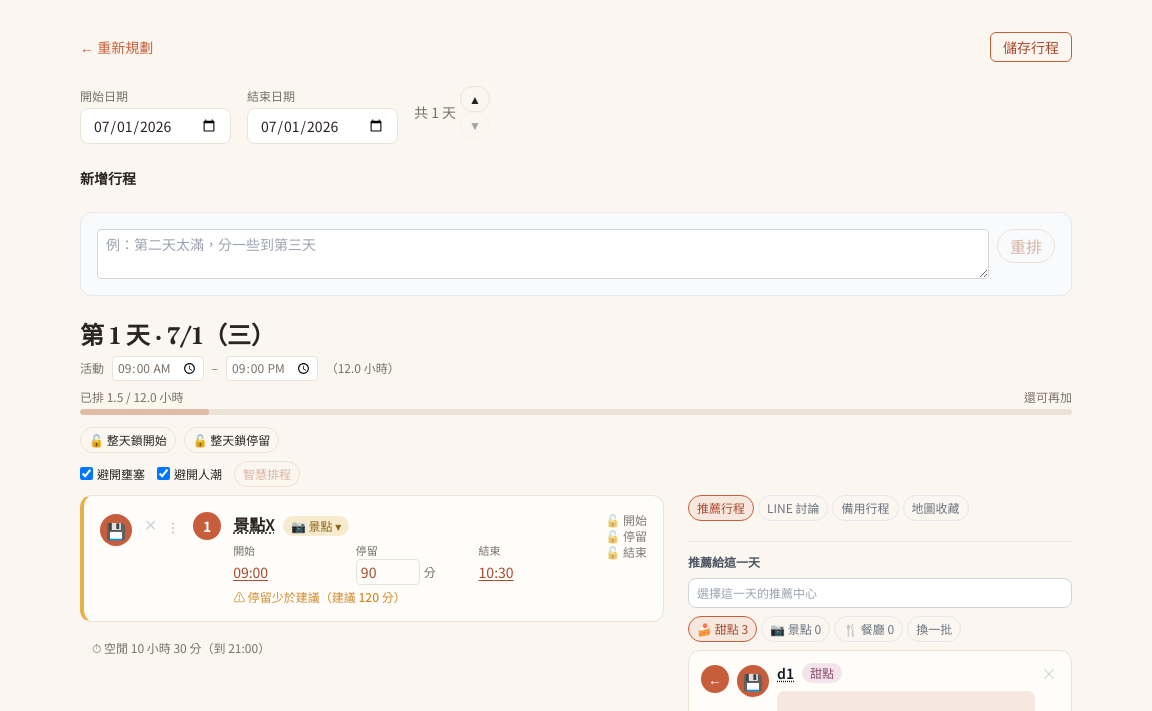
Test: backfills up to 5 visible recommendation cards after adding a card
This screenshot has width=1152, height=711.
Step 1. Click the button with test id "rec-add-d1" → {"x": 715, "y": 679}, box [701,665,729,693]
(page scrolled)
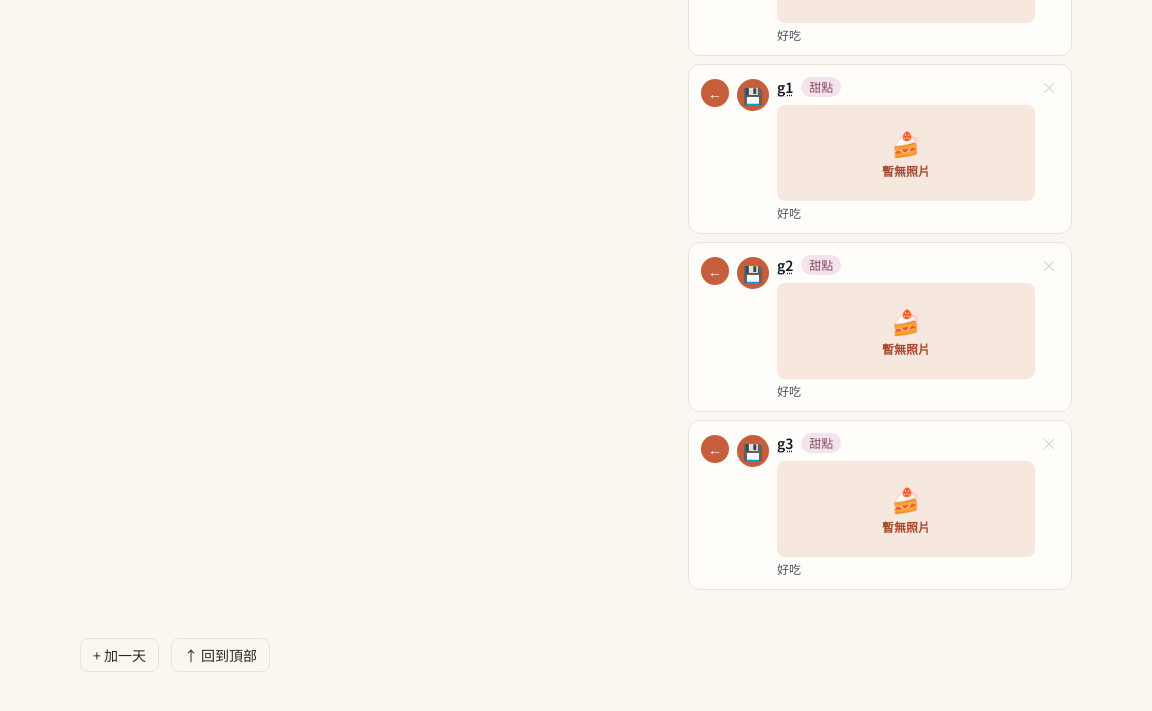
expect the button with test id "rec-add-g1" is shown: met, box [701,79,729,107]
expect the button with test id "rec-add-g2" is shown: met, box [701,257,729,285]
expect the button with test id "rec-add-g3" is shown: met, box [701,435,729,463]
